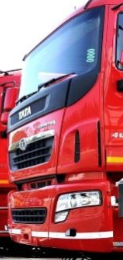truck: (8, 1, 122, 256)
